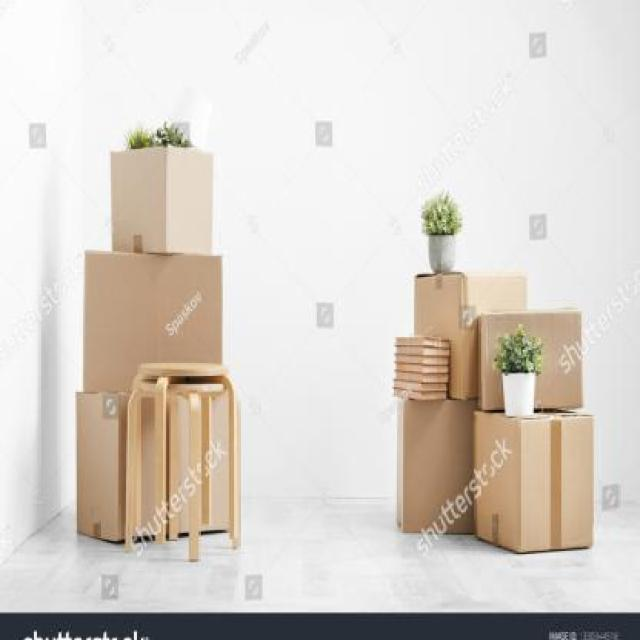box: (66, 379, 240, 549), (80, 243, 234, 394), (468, 406, 602, 566), (412, 262, 548, 411), (382, 379, 487, 554), (479, 306, 608, 434), (102, 141, 222, 266)
